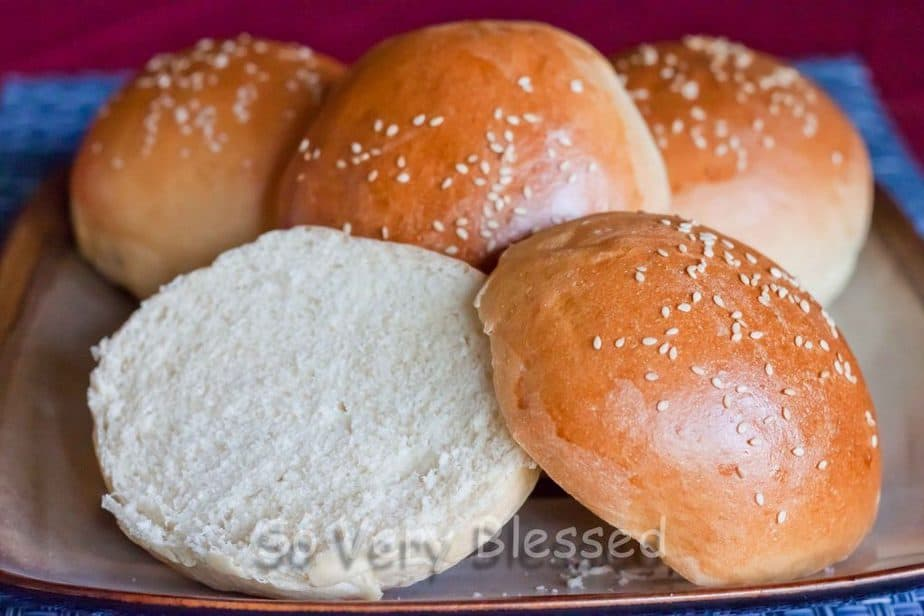hamburger_buns: (59, 214, 882, 588), (74, 42, 869, 269)
